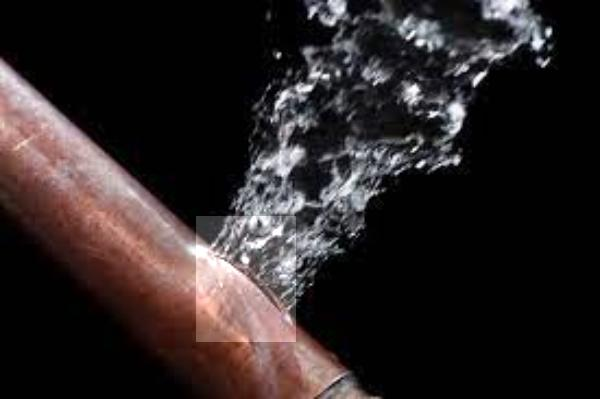water: (196, 216, 296, 342)
